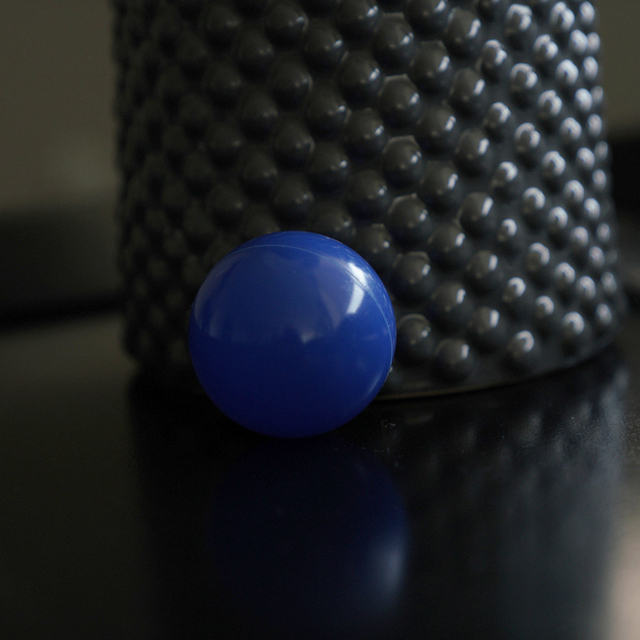Ball: (188, 230, 395, 438)
